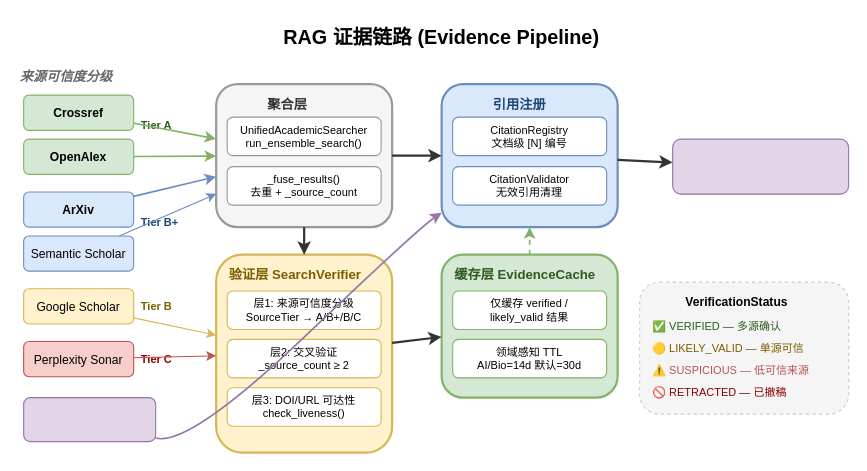
Some shapes in this 867 by 471 pixel diagram are drawn without their labels. Here are the shapes that lost their labels. From the top down, the centre of each, then its label:
[760,166]: → Writing Stage 章节生成 + 反幻觉
[89,419]: 📁 本地附件 IndexService (FAISS)
